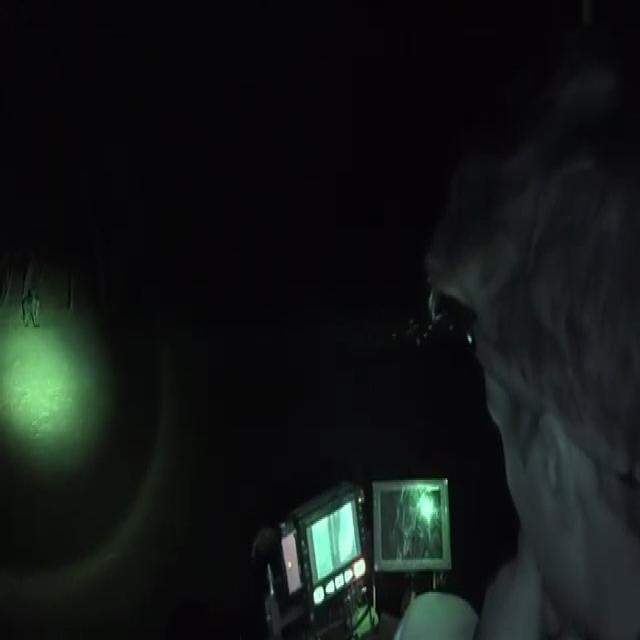animal: (16, 275, 54, 340)
device: (218, 411, 457, 640)
human: (453, 72, 640, 640)
